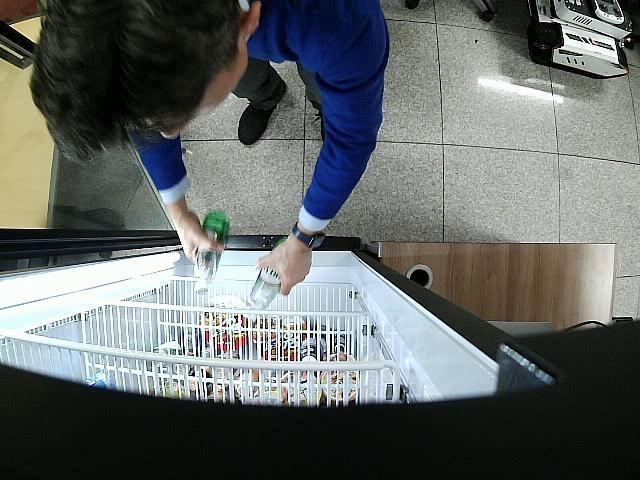18_trevi: (246, 238, 287, 320), (195, 213, 231, 294)
